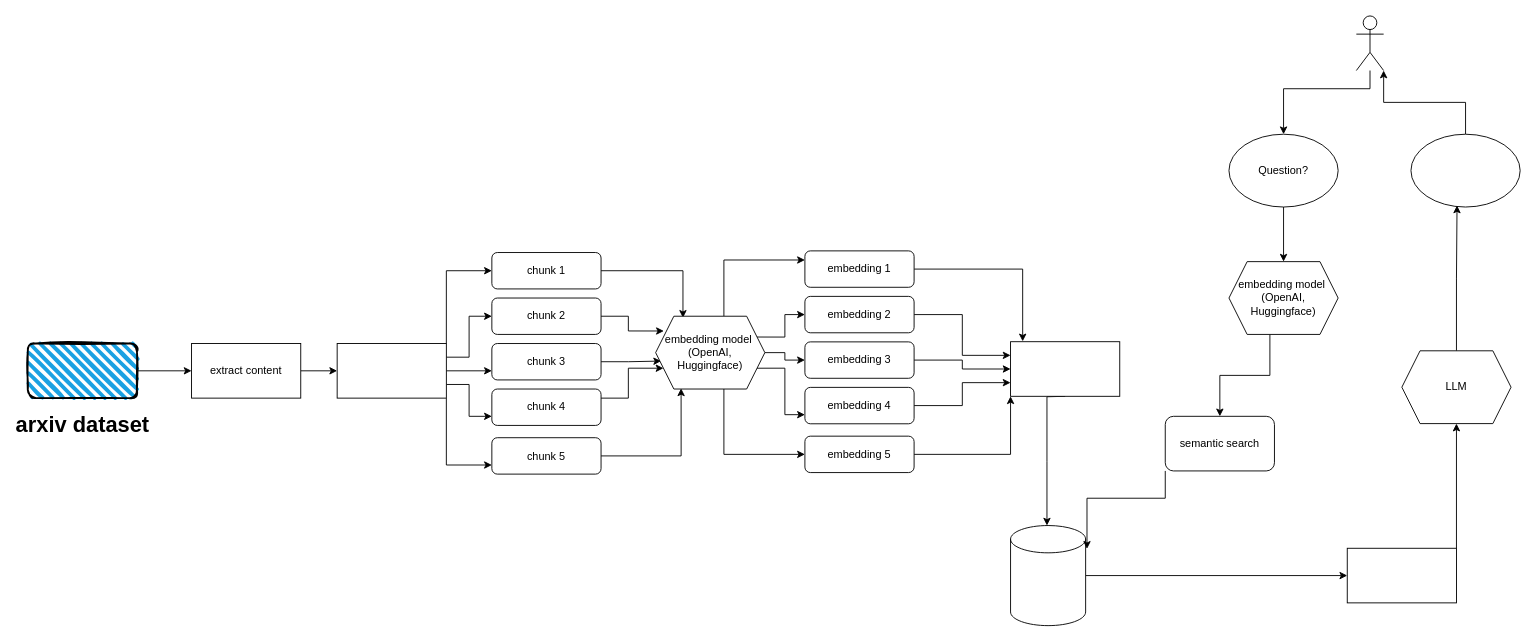
This 1536x642 diagram has some shape labels left out. The shapes that lost their labels are listed below. From the top down, each one's box as (x1, y1, x2, y2) in pixels, then its label:
(1355, 15, 1384, 71): User
(1410, 133, 1520, 207): Answer
(336, 343, 446, 398): split into chunks
(1010, 341, 1120, 396): build semantic index
(1010, 525, 1086, 626): vectorstore (chroma, pinecone, qdrant)
(1346, 547, 1456, 603): results
